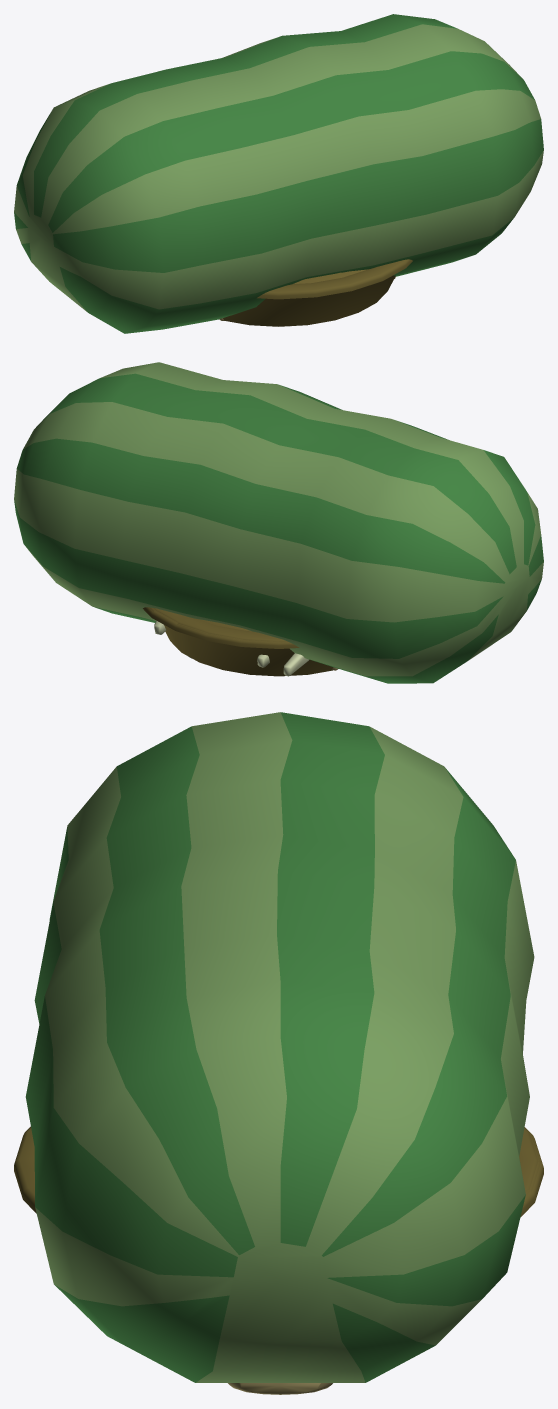
The model's file is Food.fbx.
3 renders of one model, top to bottom at view 1: azimuth 30°, elevation 25°; view 2: azimuth 150°, elevation 25°; view 3: azimuth 270°, elevation 25°, orthographic. The views are drawn at different scales.
Parts seen in each view (by area): view 1: WaterMelon, Pie01C; view 2: WaterMelon, Pie01A, Pie01C, RackORibs-Cooked; view 3: WaterMelon, Pie01C, Bread02.
Boxes of the visible parts, x1,y1,x2,y2 form: WaterMelon: (14,14,543,333); Pie01C: (223,259,412,326); WaterMelon: (14,362,543,683); Pie01A: (143,607,333,676); Pie01C: (153,608,287,642); RackORibs-Cooked: (154,621,308,676); WaterMelon: (25,712,534,1382); Pie01C: (14,1126,538,1213); Bread02: (228,1383,332,1394).
Size of what is drawn, in the model's own units: 0.6096 by 0.2767 by 0.3285.
